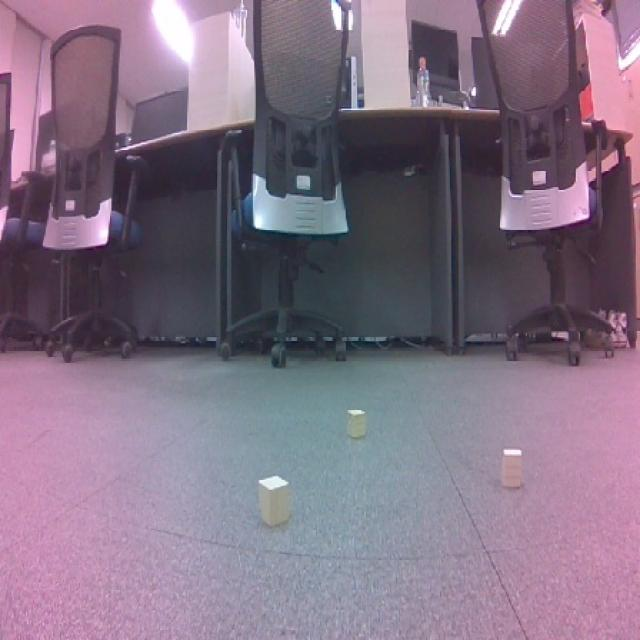obstacle: (254, 472, 299, 528), (497, 448, 528, 492), (341, 405, 370, 444)
